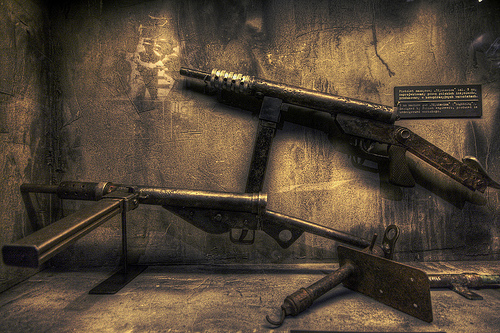rifle: (16, 175, 438, 320), (188, 60, 496, 202)
